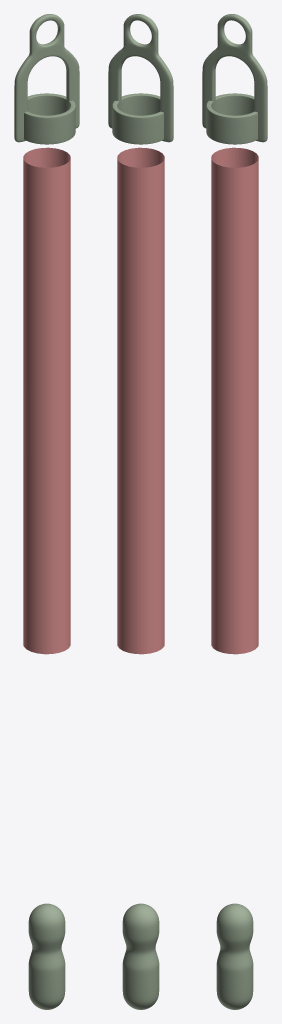
The model's file is HP_ForTexturing_Thermometer_01.fbx.
3 renders of one model, left to right at view 1: azimuth 30°, elevation 25°; view 2: azimuth 150°, elevation 25°; view 3: azimuth 330°, elevation 25°, orthographic.
Visible parts, largest first — view 1: polySurface9; view 2: polySurface9; view 3: polySurface9.
Part boxes in pixels (x1=…): polySurface9: x1=14, y1=14, x2=79, y2=1009; polySurface9: x1=108, y1=14, x2=173, y2=1009; polySurface9: x1=202, y1=14, x2=267, y2=1009.
Size of the model in its own units: 1.09 by 16.09 by 0.8443.
